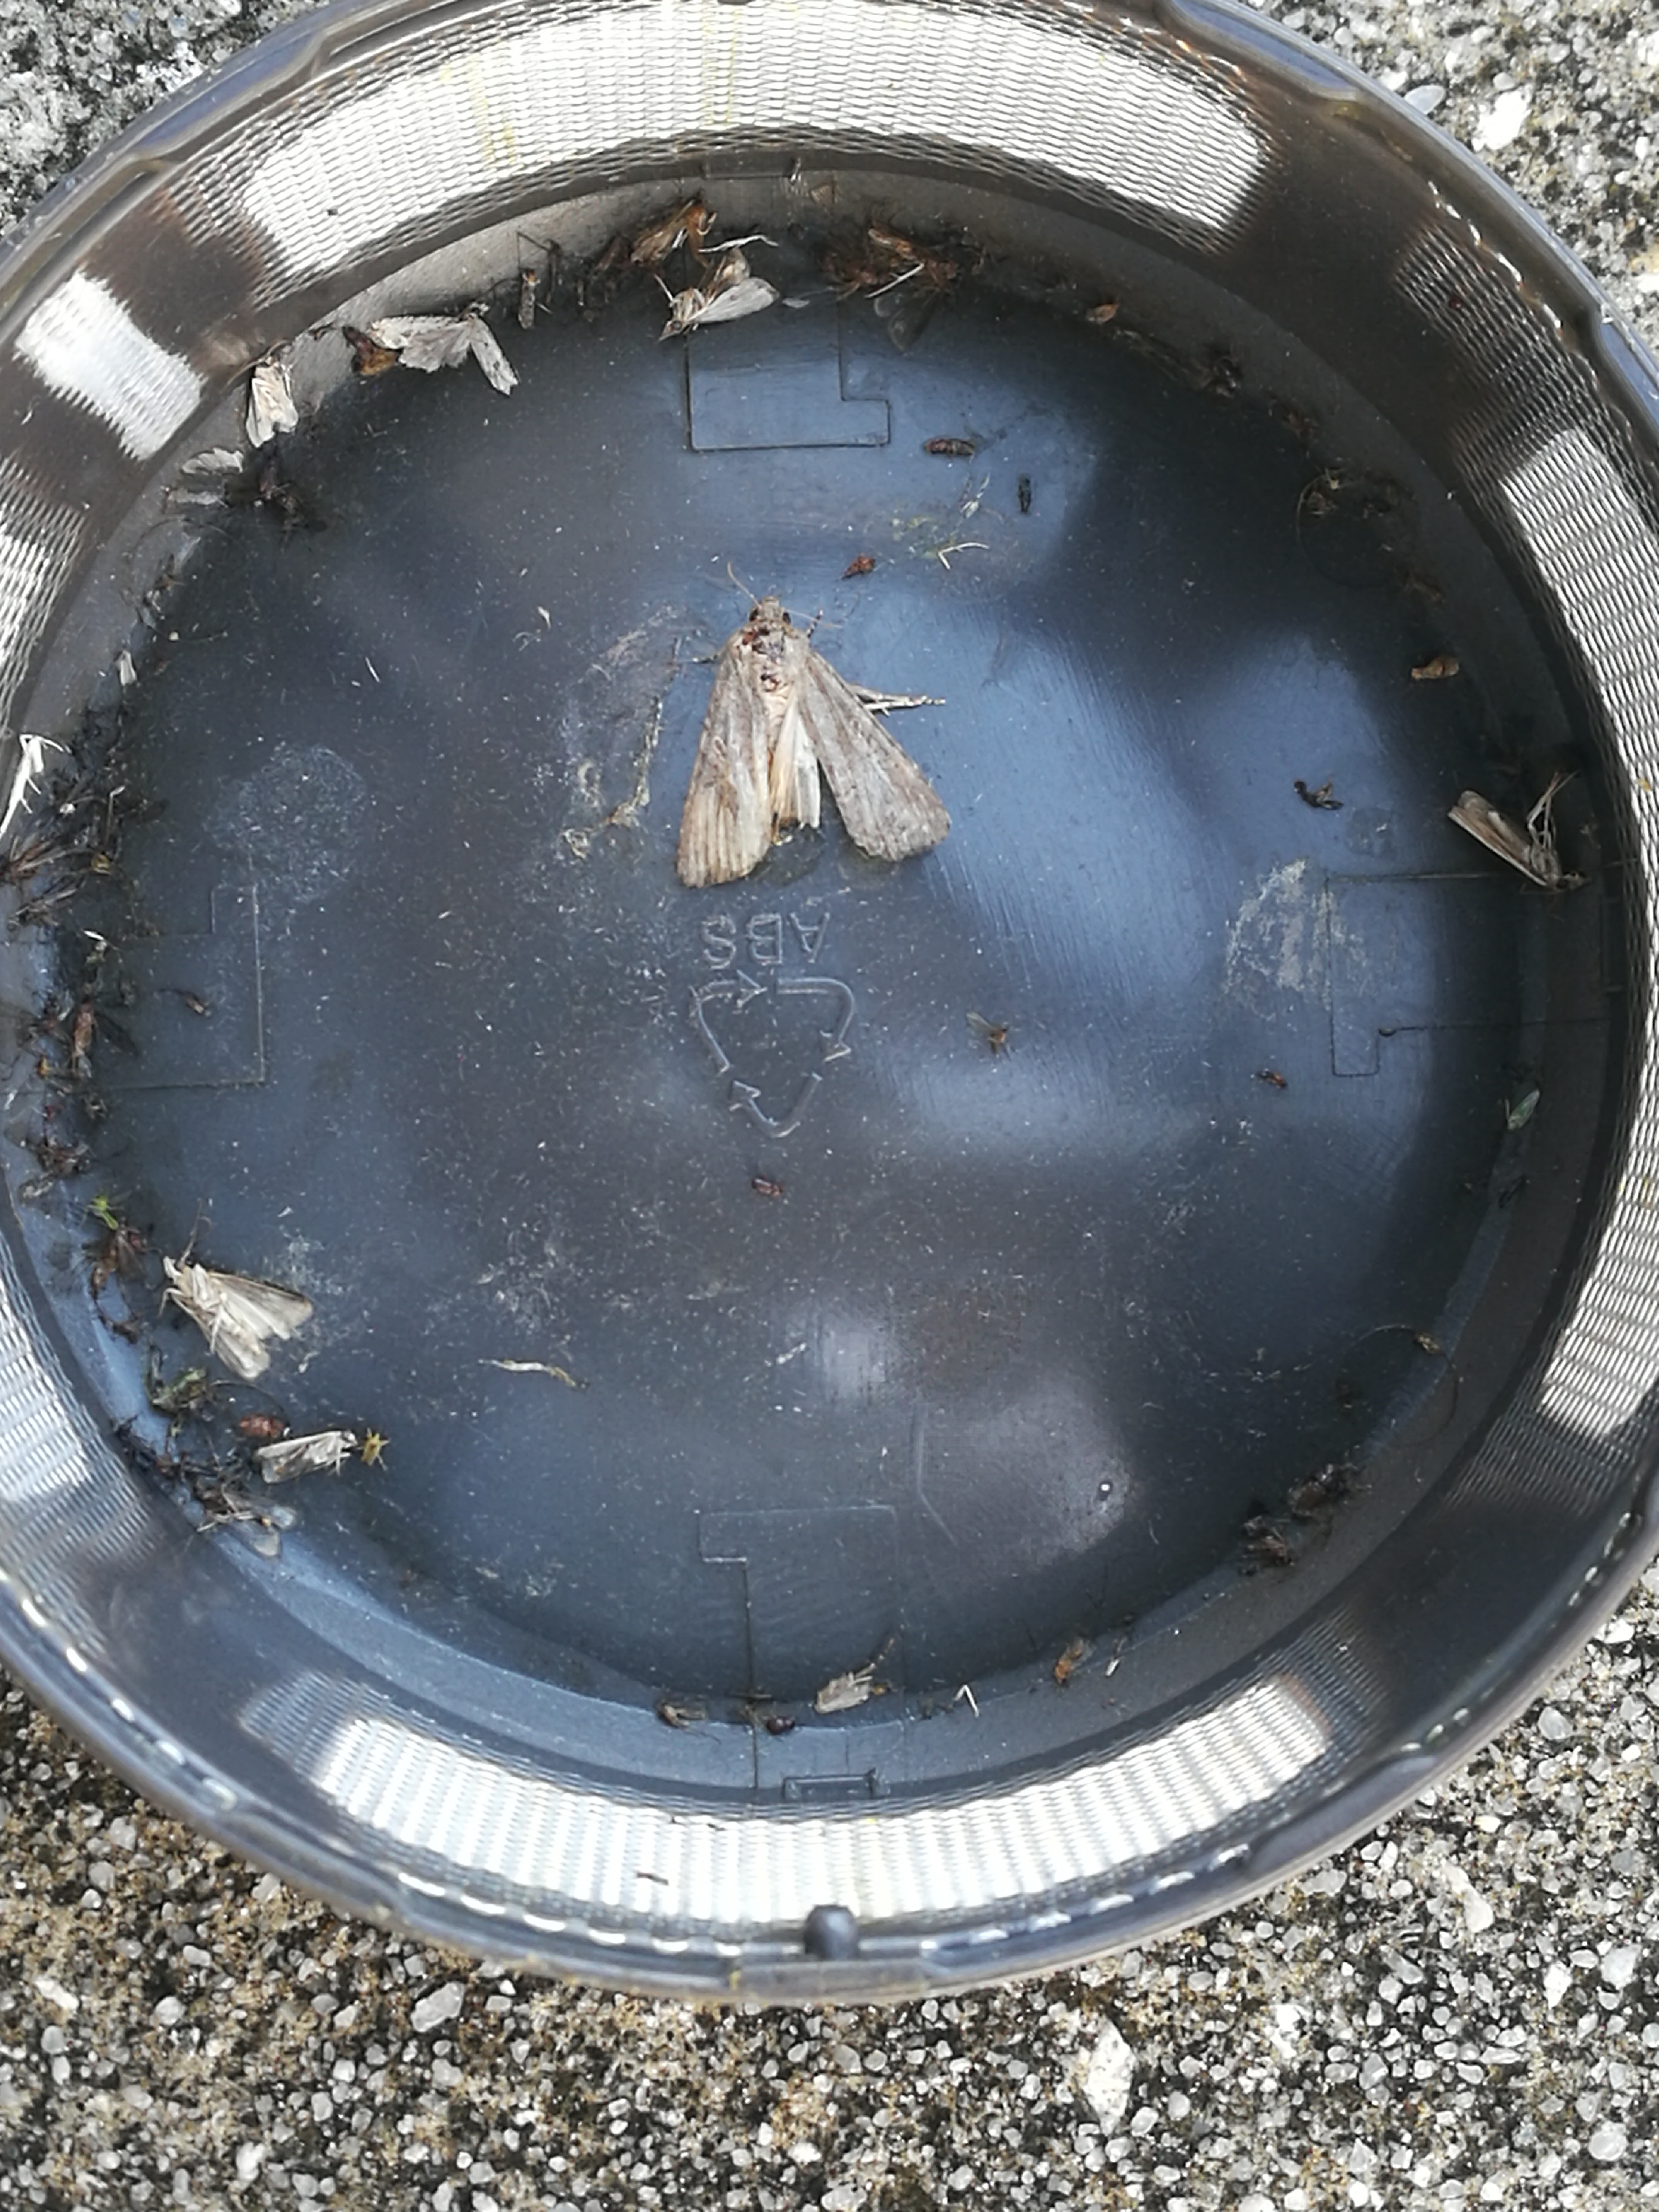mosquito: (1446, 789, 1589, 892), (256, 1432, 352, 1482)
moth: (676, 597, 951, 885), (162, 1258, 312, 1379), (369, 301, 518, 394), (657, 249, 779, 341), (870, 228, 960, 352), (193, 1479, 300, 1557), (629, 200, 711, 268), (246, 355, 298, 449)
